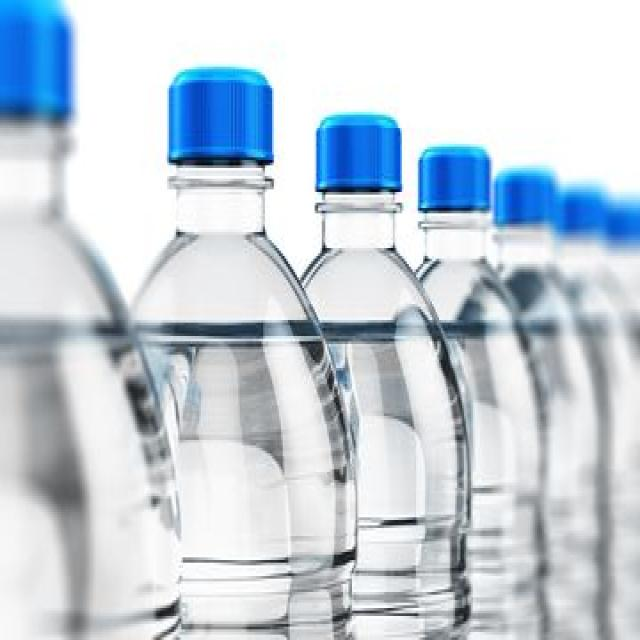bottle: (126, 71, 357, 640), (298, 112, 472, 640), (411, 142, 548, 640), (495, 164, 612, 640), (585, 188, 640, 640)
